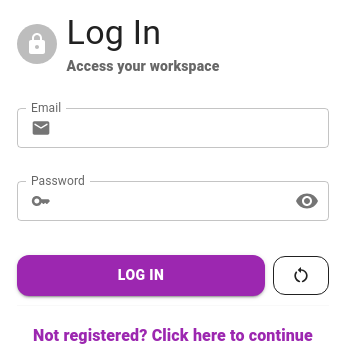
Scenario: LogInForm › exposes and updates the password visibility action name
Click the button named "Show password" at (307, 201), box [287,181,327,221]
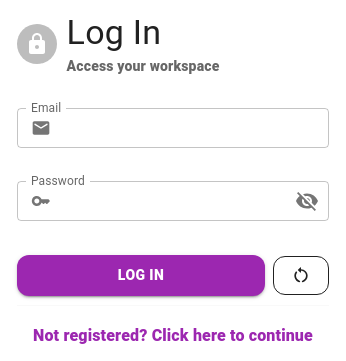
Now the button named "Hide password" is shown, box [287,181,327,221]
